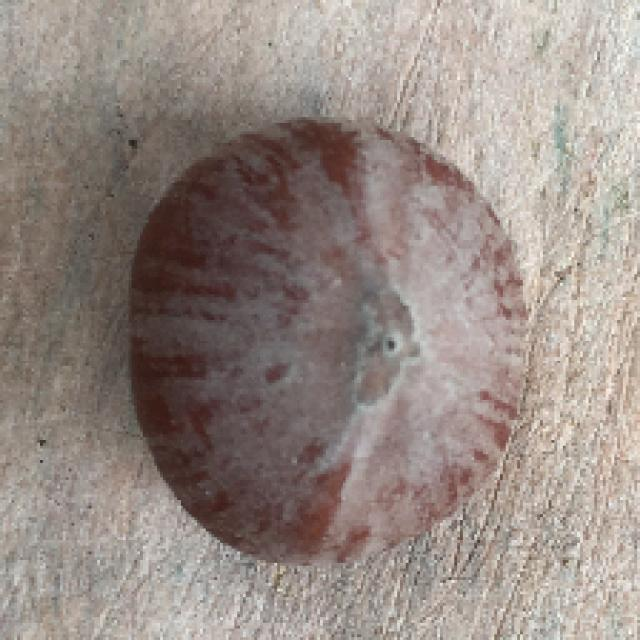qualityHazelnut: (116, 108, 538, 571)
